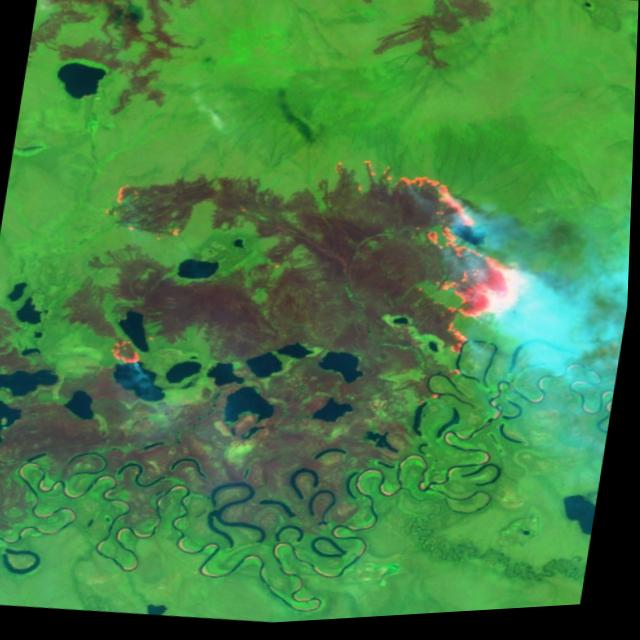fire: (357, 156, 559, 404), (89, 176, 203, 253), (110, 330, 168, 383)
